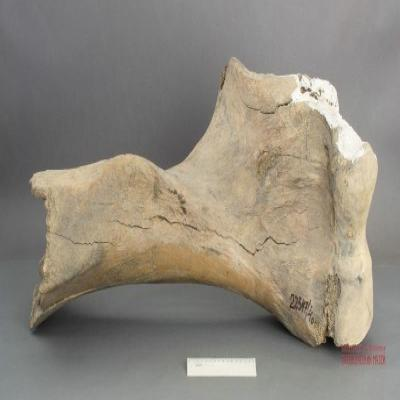natural_science_collection: (28, 57, 379, 350)
